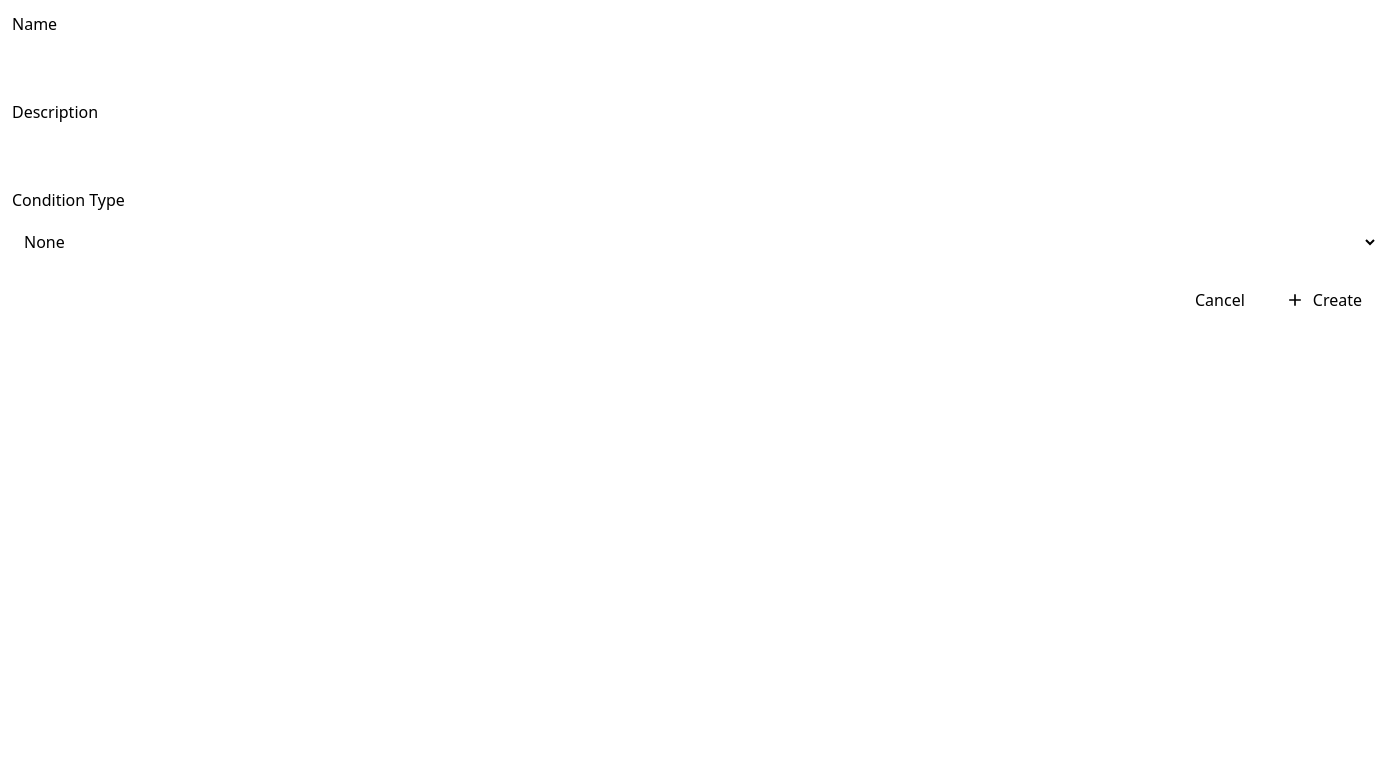
Test: should remove option when clicked
This screenshot has width=1390, height=780.
Select "Checkbox" in the dropdown labelled "Condition Type". click: (695, 242)
box: x1=12 y1=220 x2=1378 y2=264
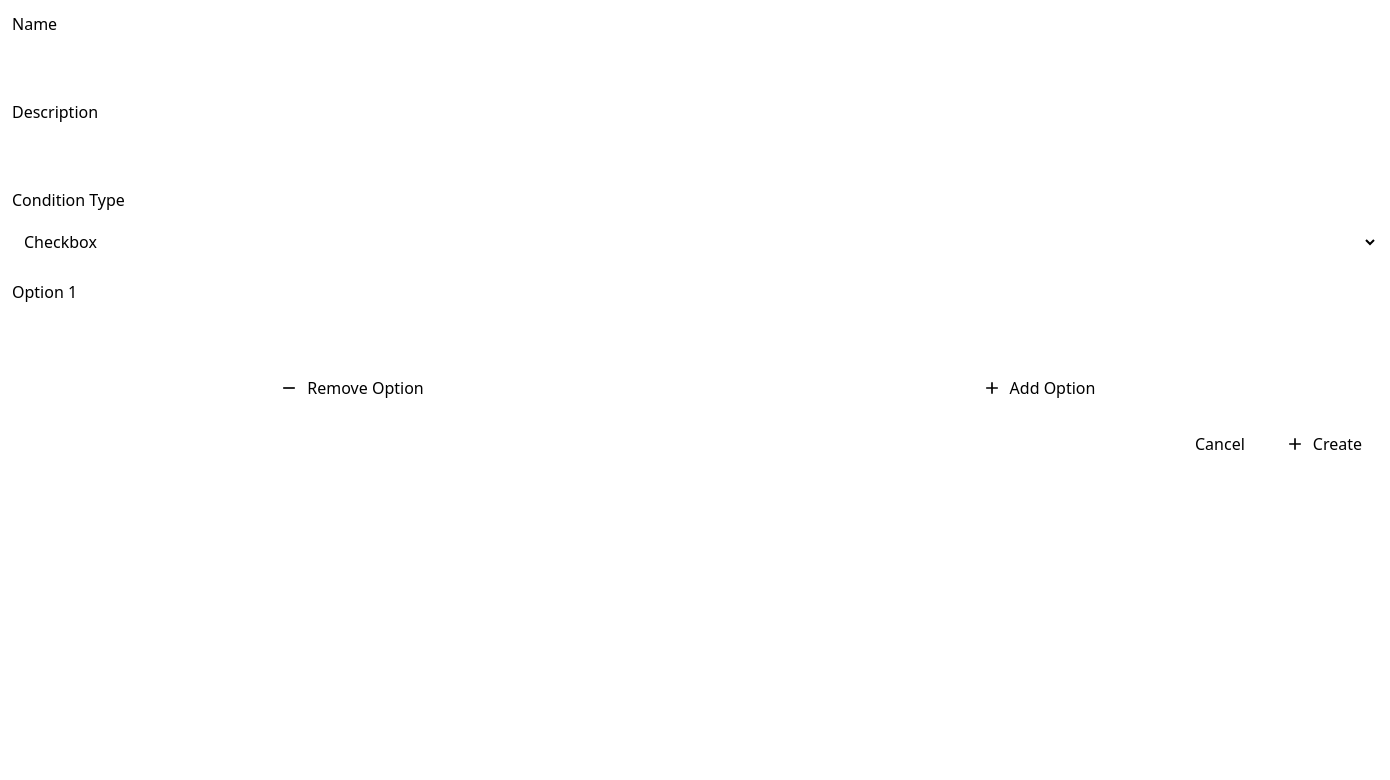
Click the button "Add Option". click: (1038, 388)
box: x1=699 y1=368 x2=1378 y2=408
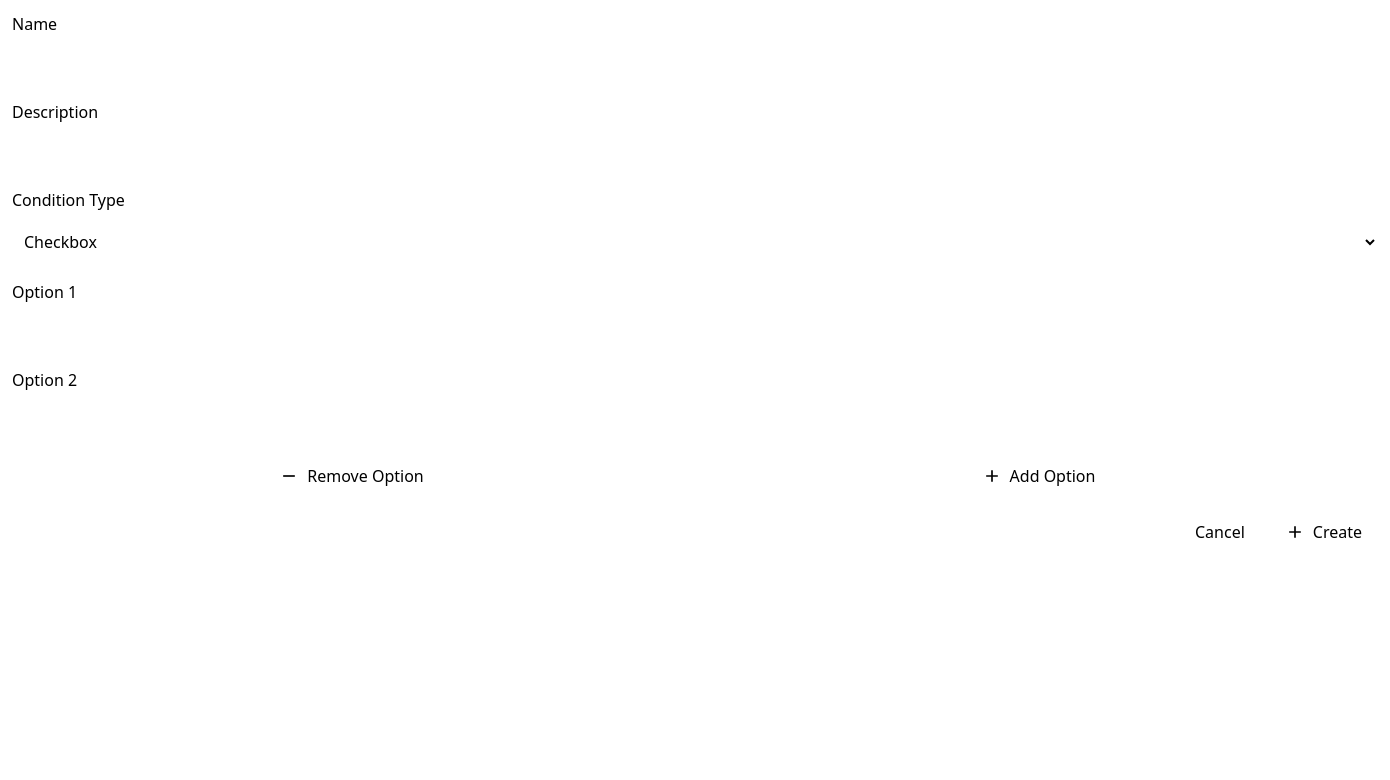
Click the button "Remove Option". click: (352, 476)
box: x1=12 y1=456 x2=691 y2=496
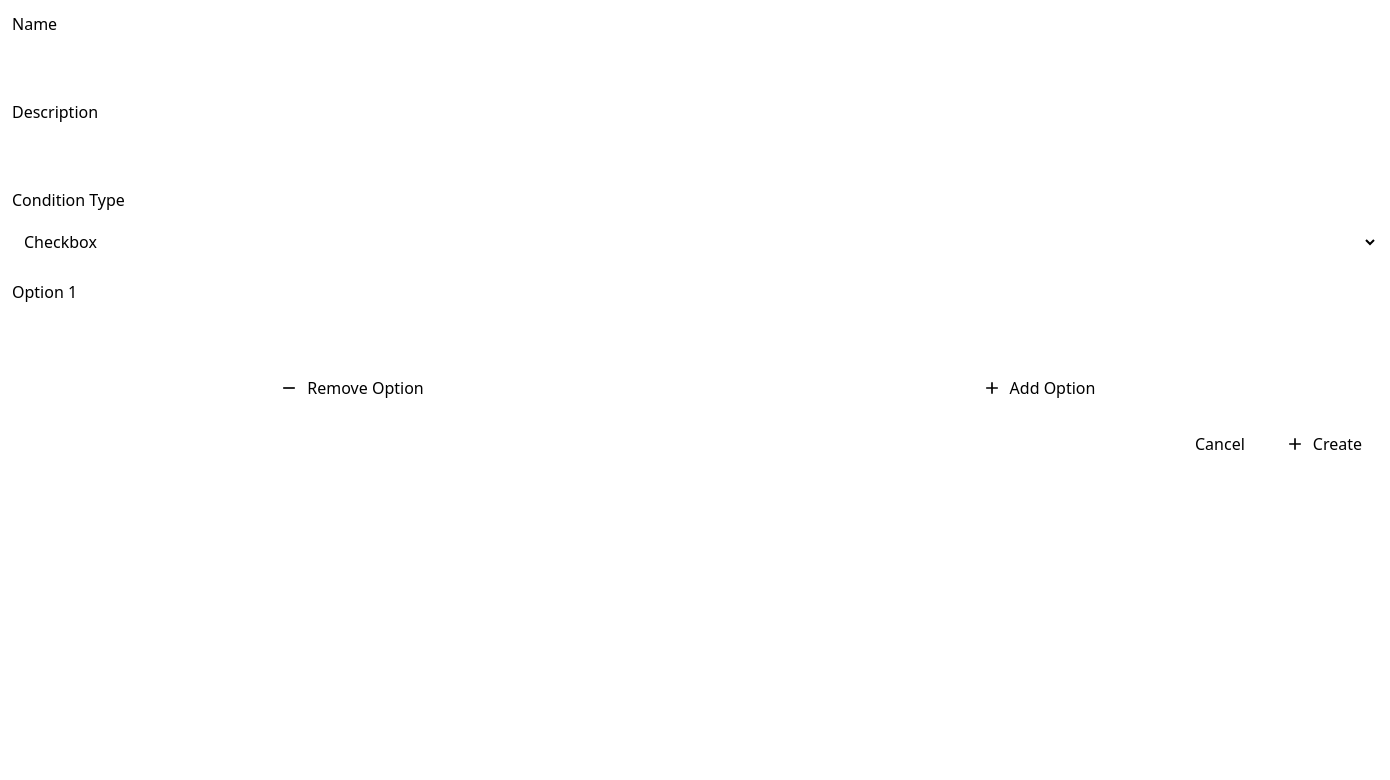
Result: the label labelled "Option 2" is gone
